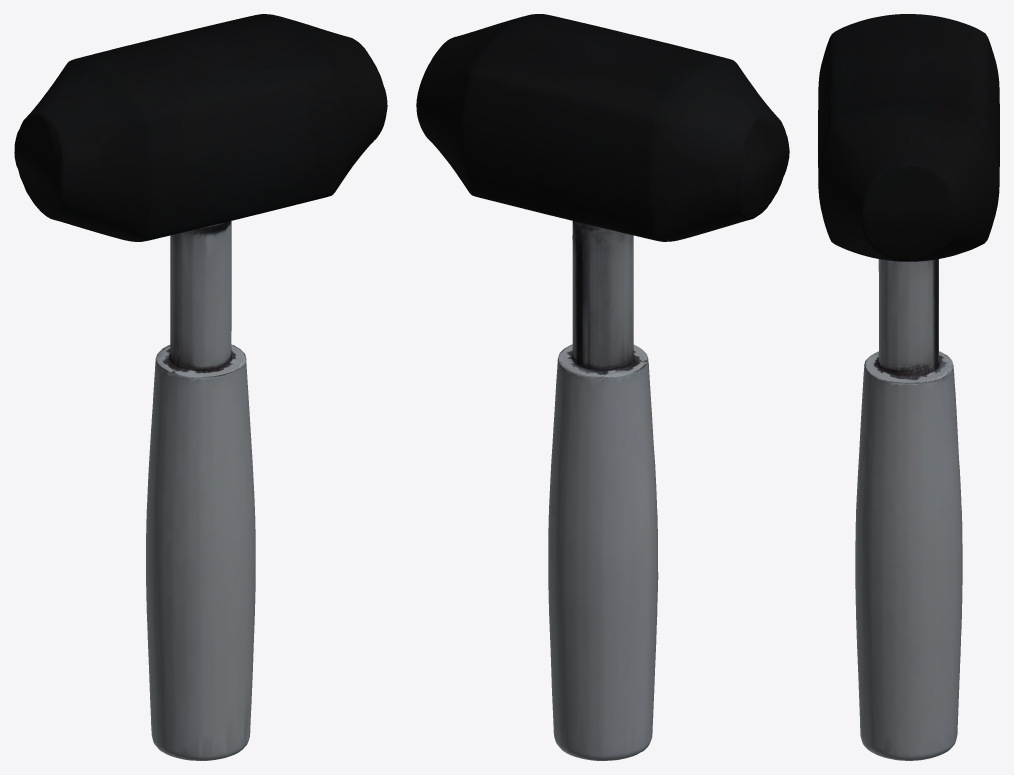
Rendered from vet_equip_reflex_hammer.glb.
3 views of the same model, side by side, from view 1: azimuth 30°, elevation 25°; view 2: azimuth 150°, elevation 25°; view 3: azimuth 270°, elevation 25° (orthographic).
Parts seen in each view (by area): view 1: model; view 2: model; view 3: model.
Part boxes in pixels (left/top/right/bottom): model: left=14, top=14, right=387, bottom=760; model: left=416, top=14, right=789, bottom=760; model: left=818, top=14, right=999, bottom=760.
Bounding box in the file's own units: 0.9313 × 1.9 × 0.4561.
Materials: 1 (1 with a texture image).
